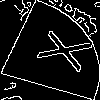X: (24, 25, 95, 73)
